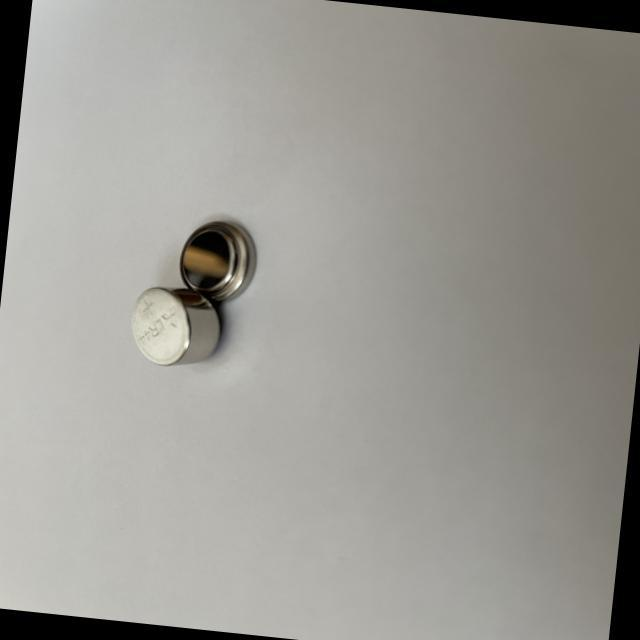COIN: (126, 280, 227, 370), (175, 214, 262, 303)
